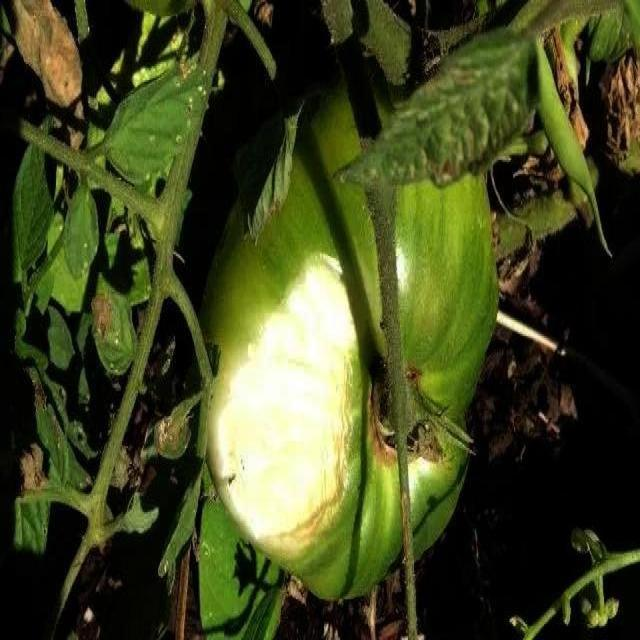Sunscald Fruit: (142, 170, 232, 366)
